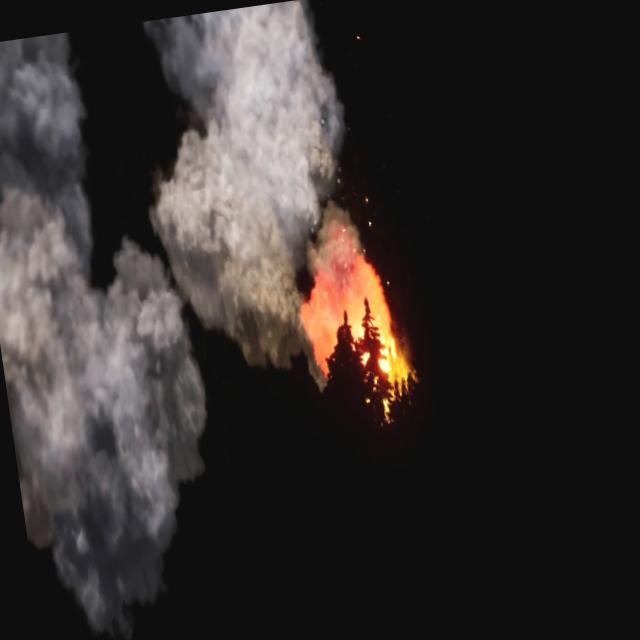fire: (288, 215, 420, 430)
smoke: (0, 0, 412, 640)
